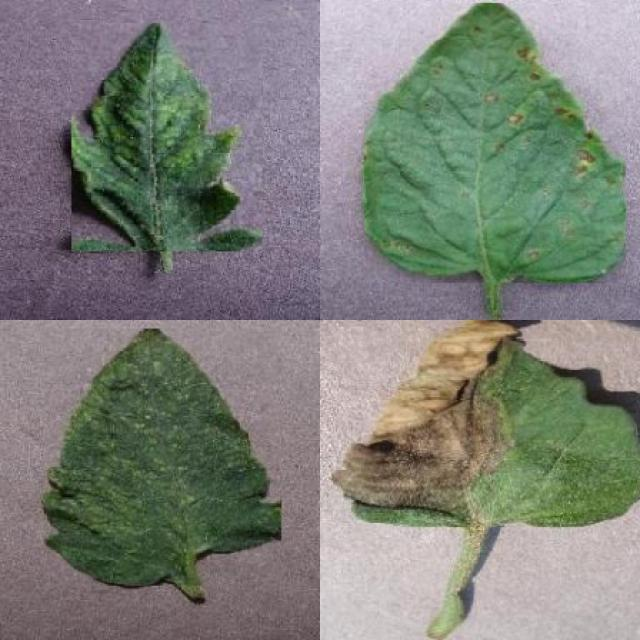Late Blight: (333, 320, 640, 527)
Mosaic Virus: (71, 23, 263, 251)
Septoria: (364, 3, 626, 284)
Spider Mites: (45, 329, 282, 585)
